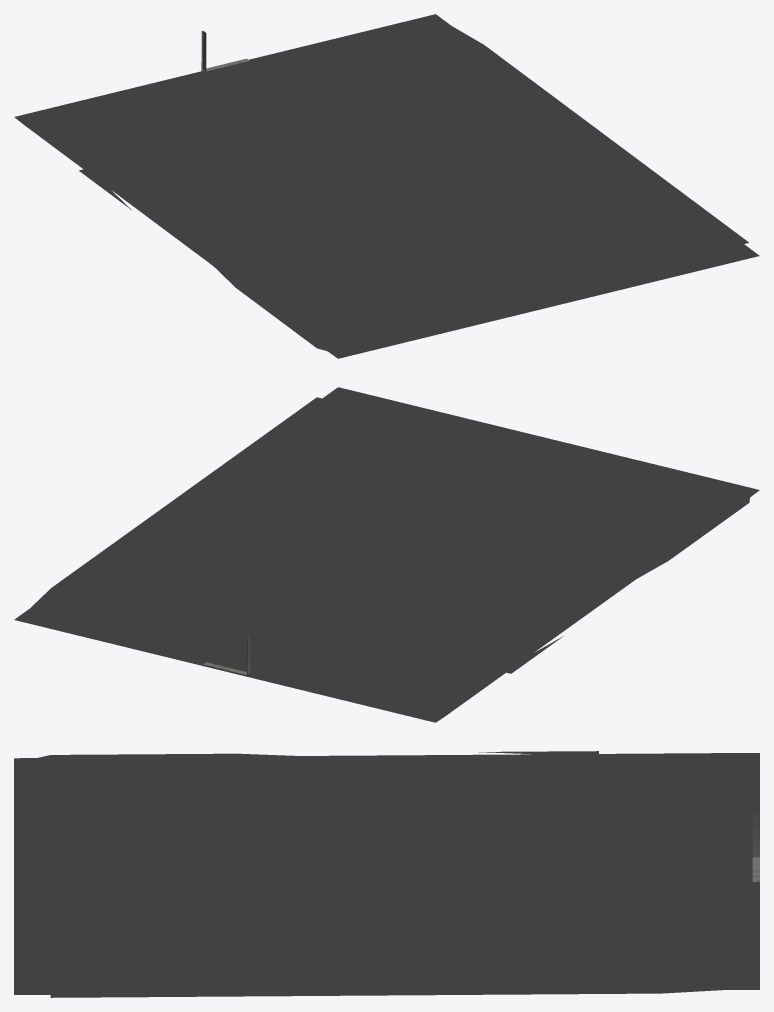
Rendered from house_floor.obj.
The picture shows the model from 3 angles, top to bottom: view 1: azimuth 30°, elevation 25°; view 2: azimuth 150°, elevation 25°; view 3: azimuth 270°, elevation 25°; orthographic projection. The views are drawn at different scales.
Parts seen in each view (by area): view 1: 10082_Police_Station_V1_L3.001; view 2: 10082_Police_Station_V1_L3.001; view 3: 10082_Police_Station_V1_L3.001.
Part boxes in pixels (x1,y1,x2,y2): 10082_Police_Station_V1_L3.001: [14, 14, 759, 358]; 10082_Police_Station_V1_L3.001: [14, 387, 759, 722]; 10082_Police_Station_V1_L3.001: [14, 751, 759, 997].
Bounding box in the file's own units: 14.13 × 1.4 × 18.34.
